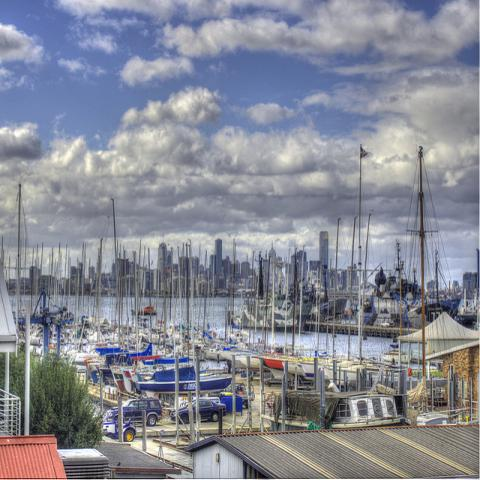car: (106, 398, 163, 426), (171, 400, 227, 424), (220, 383, 255, 409), (104, 420, 137, 443)
